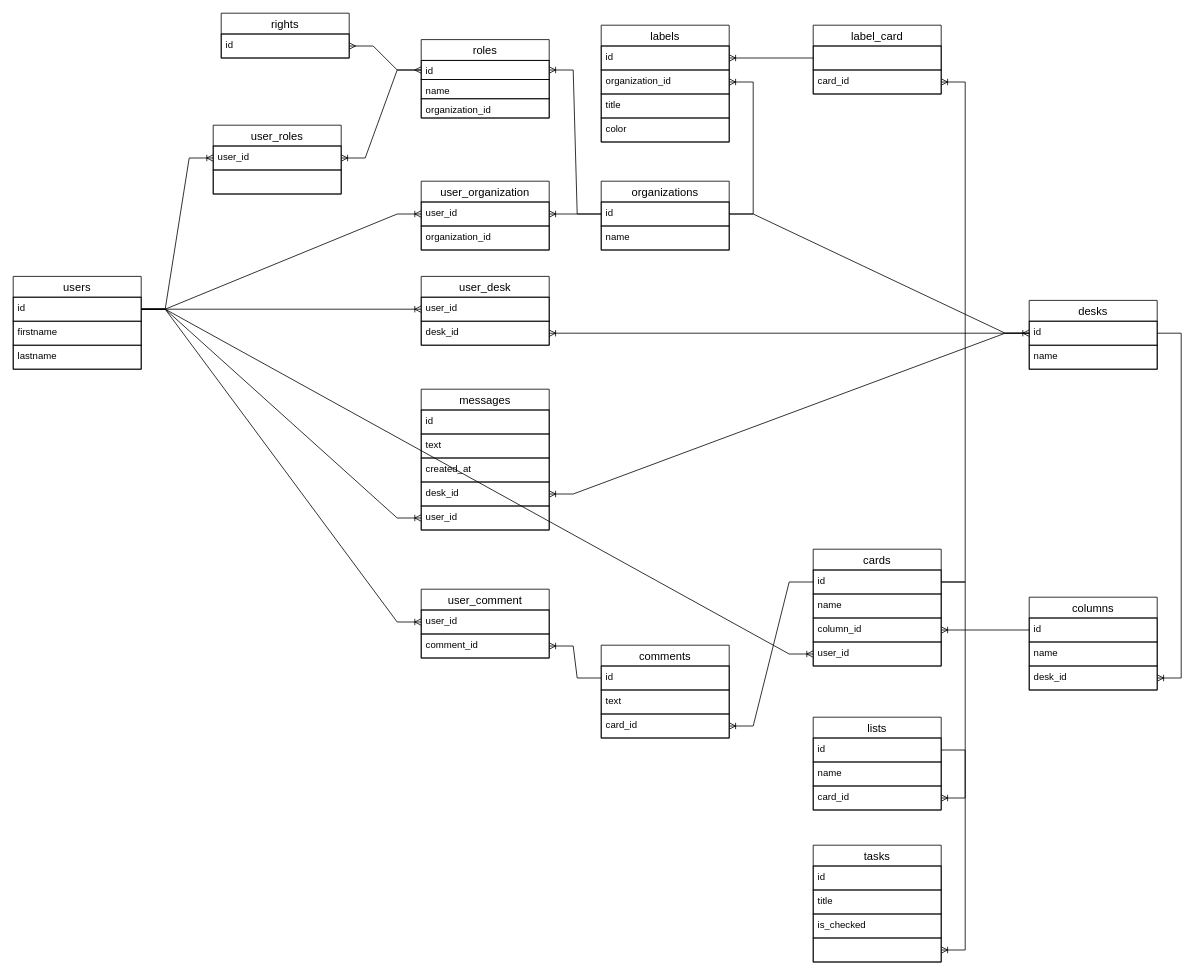
Some shapes in this 1194 by 975 pixel diagram are drawn without their labels. Each missing label, with the centre of its shape:
label_id: (x=876, y=57)
list_id: (x=876, y=949)
role_id: (x=276, y=181)
